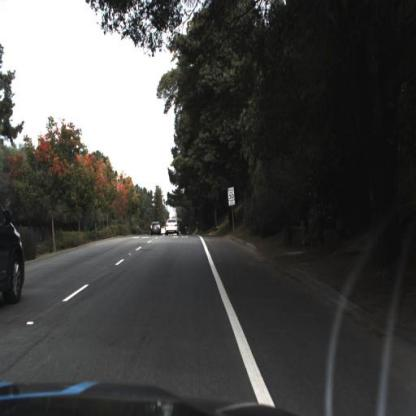car: (1, 180, 26, 315), (164, 214, 185, 237), (150, 217, 164, 237)
